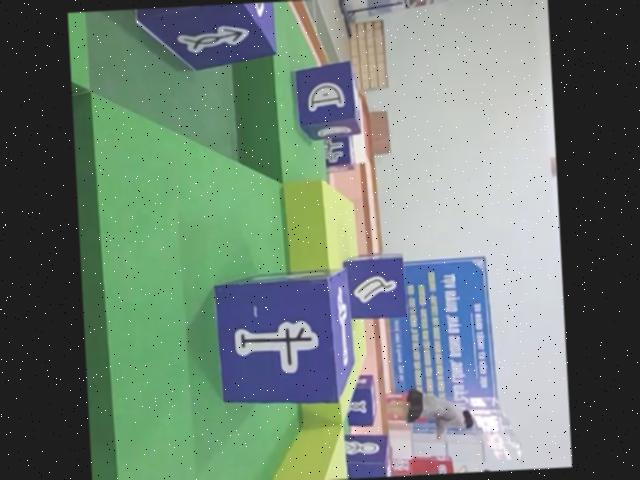R2 Real Blue: (213, 266, 356, 409), (134, 2, 277, 73), (291, 60, 363, 140), (340, 254, 408, 321), (344, 432, 392, 479), (344, 372, 378, 427), (324, 134, 356, 174)
